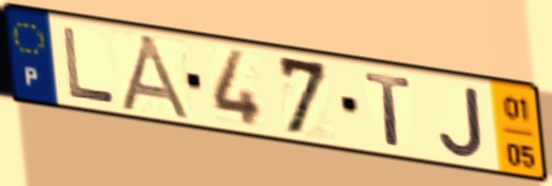4: (209, 46, 266, 131)
7: (276, 53, 331, 138)
A: (116, 32, 198, 123)
J: (436, 84, 488, 160)
L: (58, 24, 118, 107)
T: (361, 69, 416, 151)
